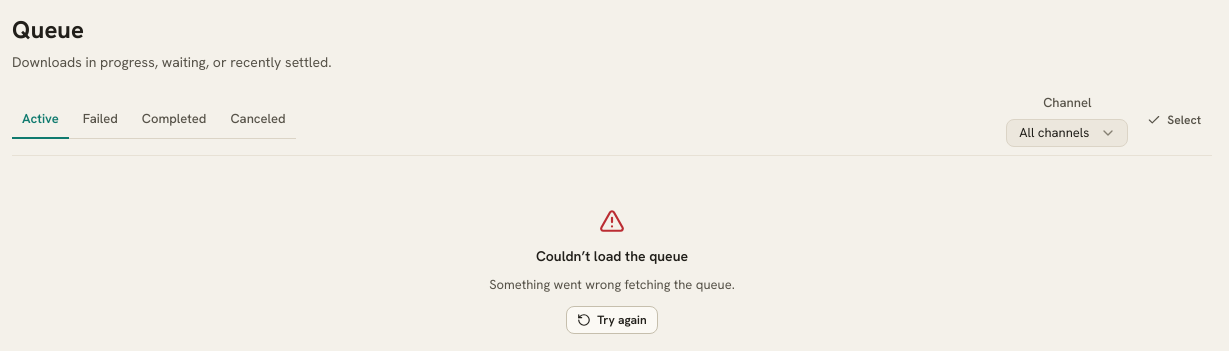
Test: QueuePage — load, tabs, empty, error › shows an error state with retry
This screenshot has width=1229, height=351.
Check: the text "Couldn’t load the queue" is shown, box [536,246,688,266]
Click the button "Try again": (612,320) [566,306,658,334]
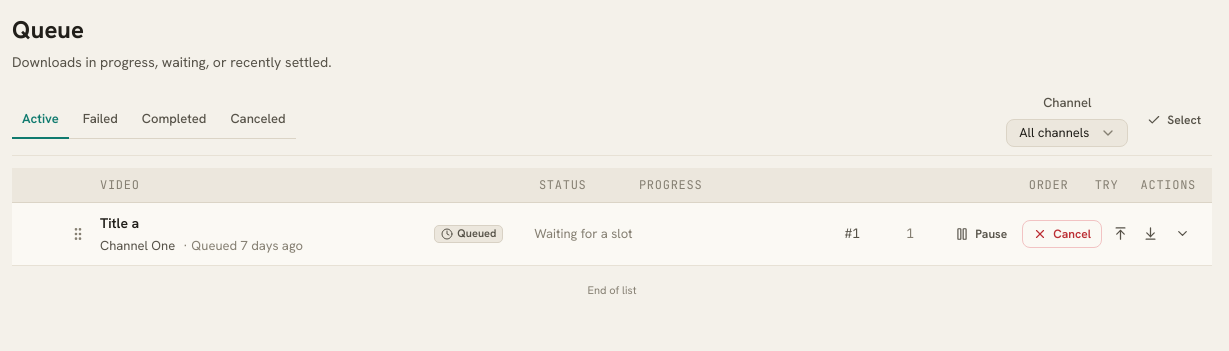
Check: the link "Title a" is shown, box [100,212,139,234]
